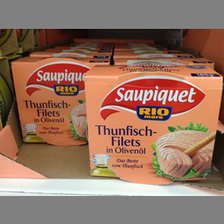fish: (85, 64, 223, 185), (10, 56, 111, 145)
